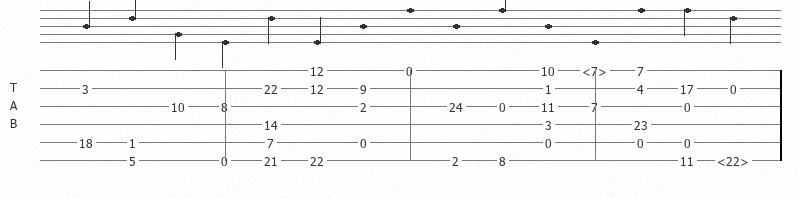0: (221, 154, 232, 167), (360, 136, 371, 149), (406, 64, 417, 77), (499, 100, 510, 113), (545, 136, 556, 149), (637, 136, 648, 149), (684, 100, 695, 113), (684, 136, 695, 149), (730, 82, 741, 95)
1: (129, 136, 140, 149), (545, 82, 556, 95)
10: (171, 100, 189, 113), (541, 64, 559, 77)
11: (541, 100, 559, 113), (680, 154, 698, 167)
12: (310, 82, 328, 95), (310, 64, 328, 77)
14: (264, 118, 282, 131)
17: (680, 82, 698, 95)
18: (79, 136, 97, 149)
2: (360, 100, 371, 113), (452, 154, 463, 167)
21: (264, 154, 282, 167)
22: (264, 82, 282, 95), (310, 154, 328, 167)
23: (634, 118, 652, 131)
24: (449, 100, 467, 113)
3: (82, 82, 93, 95), (545, 118, 556, 131)
4: (637, 82, 648, 95)
5: (129, 154, 140, 167)
7: (267, 136, 278, 149), (591, 100, 602, 113), (637, 64, 648, 77)
8: (221, 100, 232, 113), (499, 154, 510, 167)
9: (360, 82, 371, 95)
harmonic: (717, 154, 753, 167), (582, 64, 611, 77)
